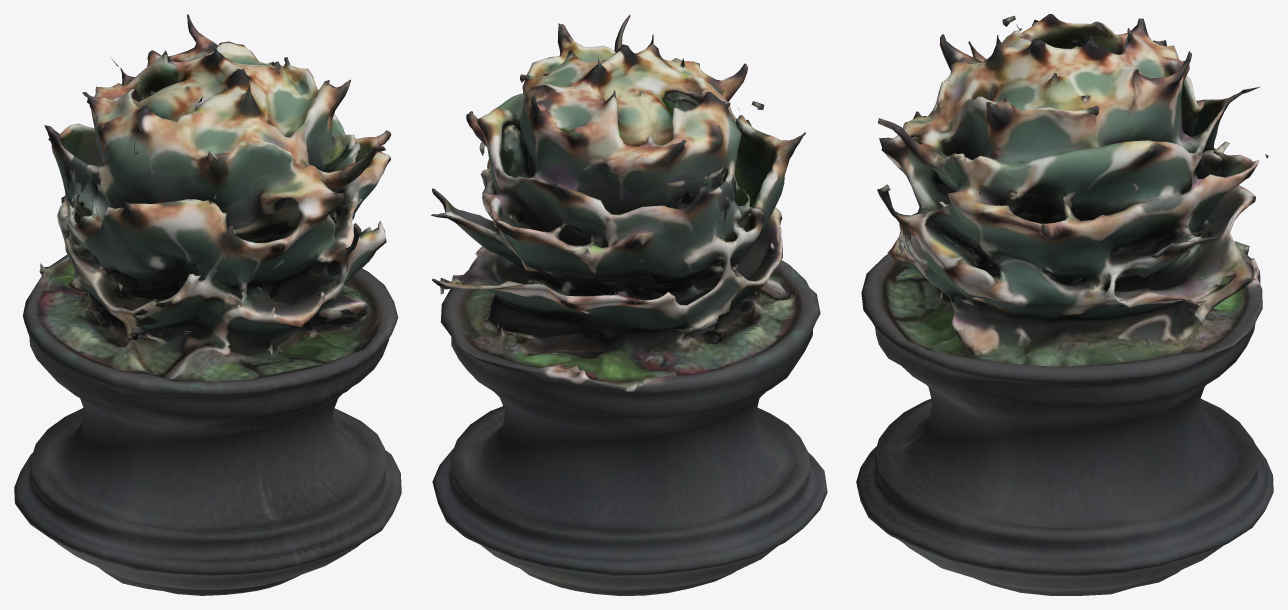
Rendered from Agave.glb.
3 views of the same model, side by side, from view 1: azimuth 30°, elevation 25°; view 2: azimuth 150°, elevation 25°; view 3: azimuth 270°, elevation 25° (orthographic). The views are drawn at different scales.
Bounding box in the file's own units: 1.46 × 2 × 1.46.
Materials: 1 (1 with a texture image).
